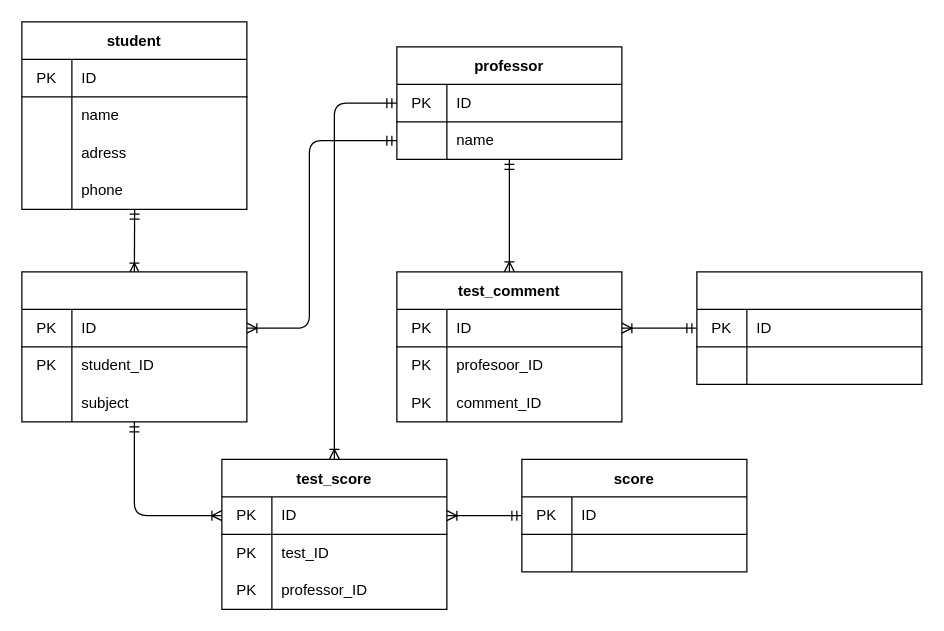
Image size: 944x631. Some labels were removed from this diagram. The shapes that lost their labels are listed below. From the top down, each one's box as (x1, y1, x2, y2) in pixels, then its label:
(21, 271, 247, 422): test
(696, 271, 922, 384): comment
